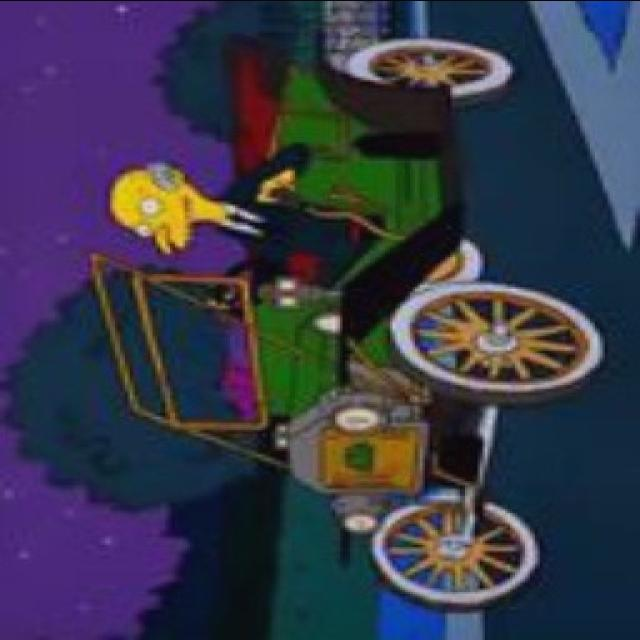Charles Montgomery Burns: (110, 158, 220, 256)
